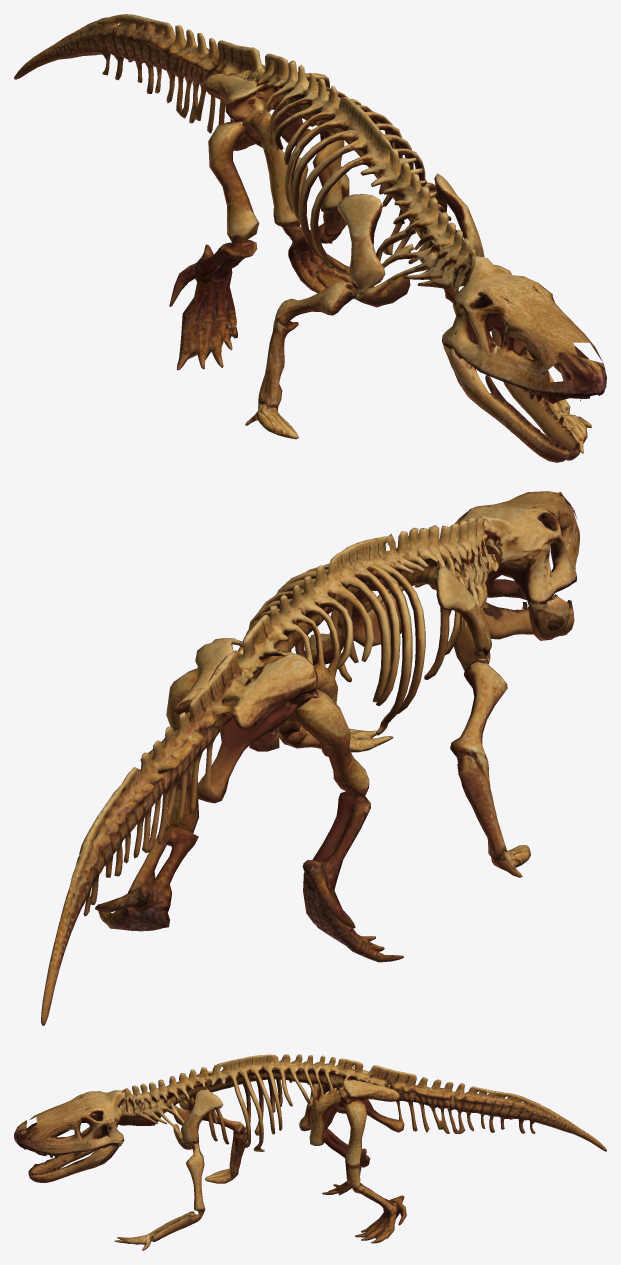
Rendered from dinosaur-skeleton.glb.
The picture shows the model from 3 angles, top to bottom: view 1: azimuth 30°, elevation 25°; view 2: azimuth 150°, elevation 25°; view 3: azimuth 270°, elevation 25°; orthographic projection. The views are drawn at different scales.
Visible parts, largest first — view 1: tripo_node_1a26f33c; view 2: tripo_node_1a26f33c; view 3: tripo_node_1a26f33c.
Part boxes in pixels (x1=…): tripo_node_1a26f33c: x1=14, y1=14, x2=606, y2=462; tripo_node_1a26f33c: x1=41, y1=491, x2=579, y2=1025; tripo_node_1a26f33c: x1=14, y1=1054, x2=606, y2=1250.
Bounding box in the file's own units: 0.2884 × 0.2989 × 0.9806.
1 material, 1 textured.
